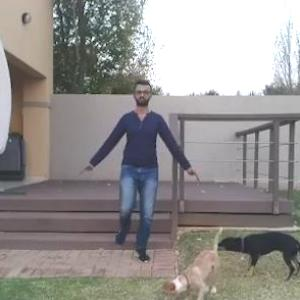land: (97, 89, 181, 245)
